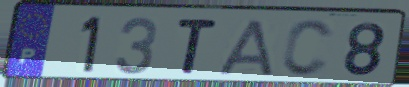1: (78, 15, 103, 74)
3: (114, 15, 160, 76)
8: (342, 21, 388, 79)
A: (216, 17, 276, 78)
C: (279, 17, 337, 79)
T: (174, 17, 221, 77)
